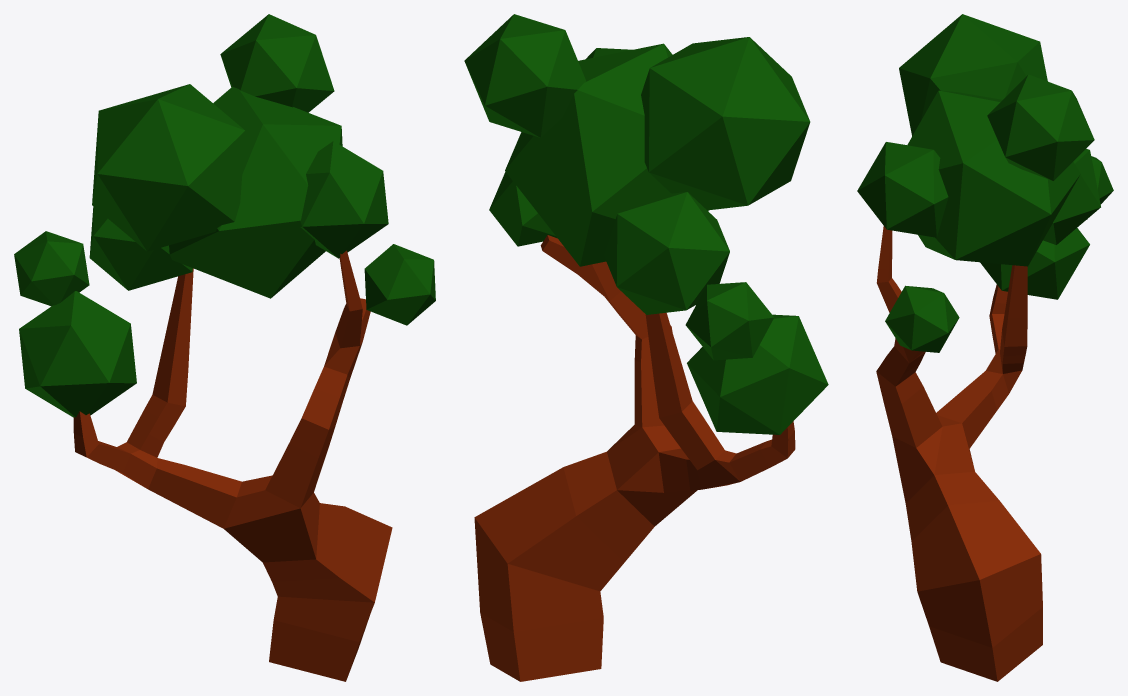
File: tree_round3.glb
3 renders of one model, left to right at view 1: azimuth 30°, elevation 25°; view 2: azimuth 150°, elevation 25°; view 3: azimuth 270°, elevation 25°, orthographic. The views are drawn at different scales.
Visible parts, largest first — view 1: Cube.002, Icosphere.019, Icosphere.014, Icosphere.015, Icosphere.017, Icosphere.016, Icosphere.013, Icosphere.020, Icosphere.018; view 2: Cube.002, Icosphere.019, Icosphere.014, Icosphere.018, Icosphere.015, Icosphere.017, Icosphere.020, Icosphere.013; view 3: Cube.002, Icosphere.014, Icosphere.019, Icosphere.017, Icosphere.016, Icosphere.013, Icosphere.015, Icosphere.018, Icosphere.020.
Part boxes in pixels (left/top/right/bottom): Cube.002: left=73, top=250, right=392, bottom=681; Icosphere.019: left=92, top=84, right=245, bottom=251; Icosphere.014: left=169, top=87, right=342, bottom=298; Icosphere.015: left=19, top=291, right=136, bottom=417; Icosphere.017: left=220, top=14, right=334, bottom=112; Icosphere.016: left=300, top=141, right=388, bottom=258; Icosphere.013: left=364, top=244, right=435, bottom=325; Icosphere.020: left=14, top=231, right=89, bottom=306; Icosphere.018: left=89, top=206, right=192, bottom=290; Cube.002: left=474, top=235, right=795, bottom=681; Icosphere.019: left=641, top=37, right=810, bottom=210; Icosphere.014: left=505, top=43, right=708, bottom=266; Icosphere.018: left=604, top=192, right=729, bottom=314; Icosphere.015: left=687, top=314, right=828, bottom=434; Icosphere.017: left=464, top=14, right=586, bottom=137; Icosphere.020: left=685, top=282, right=774, bottom=360; Icosphere.013: left=489, top=172, right=557, bottom=246; Cube.002: left=876, top=226, right=1042, bottom=681; Icosphere.014: left=907, top=90, right=1080, bottom=266; Icosphere.019: left=899, top=14, right=1047, bottom=136; Icosphere.017: left=987, top=74, right=1094, bottom=180; Icosphere.016: left=857, top=142, right=948, bottom=237; Icosphere.013: left=885, top=285, right=959, bottom=352; Icosphere.015: left=980, top=228, right=1089, bottom=299; Icosphere.018: left=1043, top=148, right=1100, bottom=244; Icosphere.020: left=1086, top=156, right=1113, bottom=219.
Size of the model in its own units: 0.8716 by 1.49 by 0.6082.
